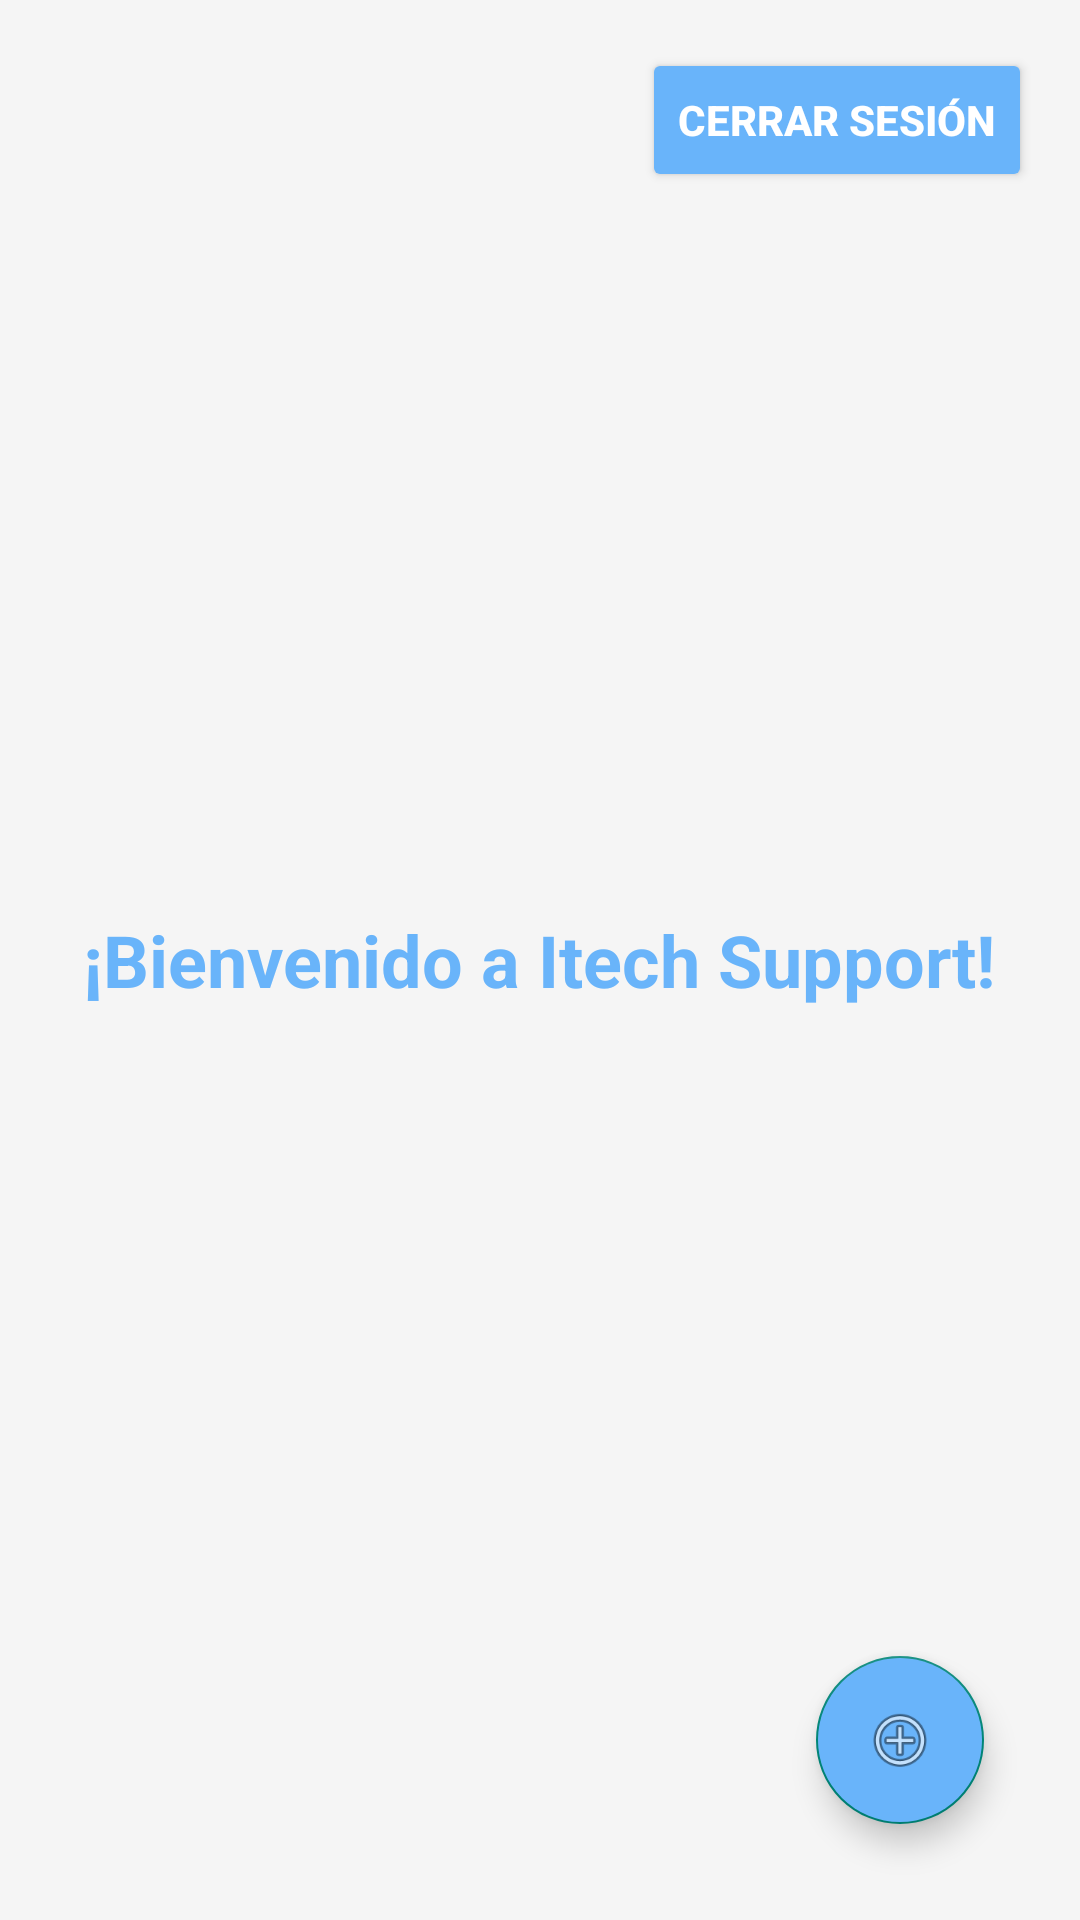

Icons on this 1080 x 1920 Android screen, each with its box as (x1, y1, x2, y2):
Registrar nuevo usuario: (816, 1656, 984, 1824)
